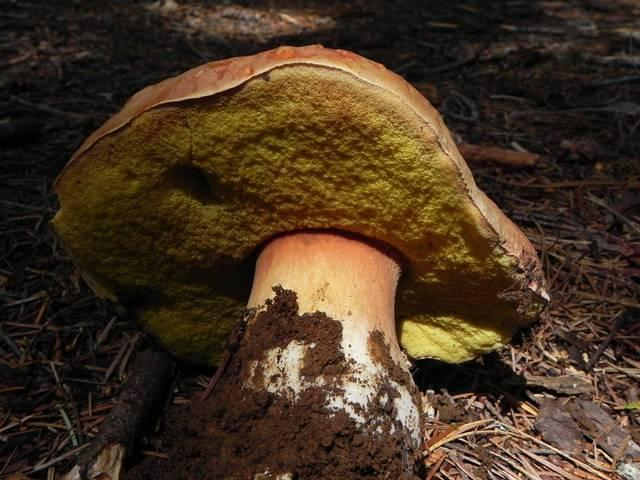Edible Mushroom: (48, 42, 550, 479)
